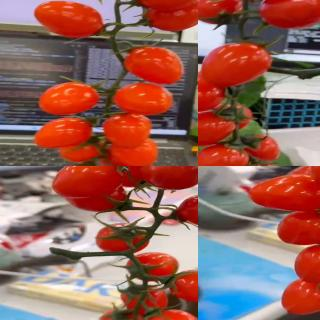tomato: (200, 42, 272, 89), (248, 172, 320, 215), (51, 166, 123, 199), (63, 184, 132, 214), (258, 0, 320, 28), (125, 252, 182, 282), (96, 226, 151, 256), (122, 286, 172, 318), (277, 210, 320, 245), (282, 277, 320, 314), (198, 112, 236, 148), (141, 166, 198, 190), (198, 0, 248, 27), (96, 166, 152, 189), (198, 141, 249, 166), (198, 72, 227, 113), (242, 134, 282, 163), (294, 243, 320, 283), (169, 268, 198, 302), (175, 191, 198, 226), (96, 308, 148, 320)
